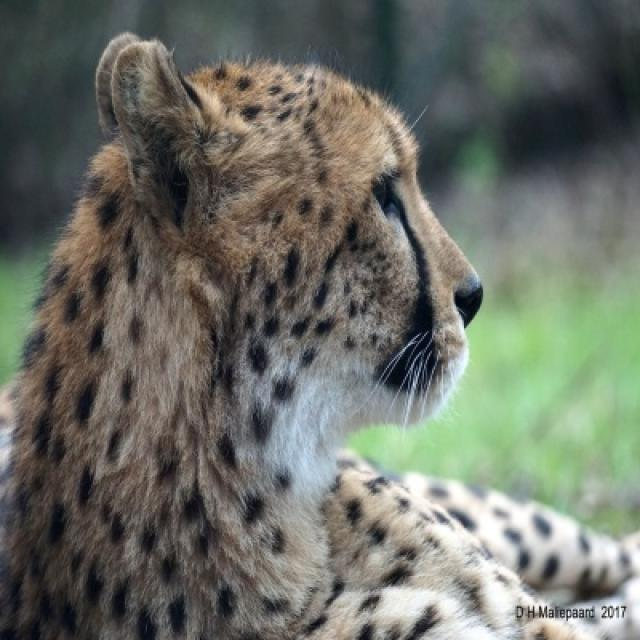Cheetah: (0, 34, 638, 638)
